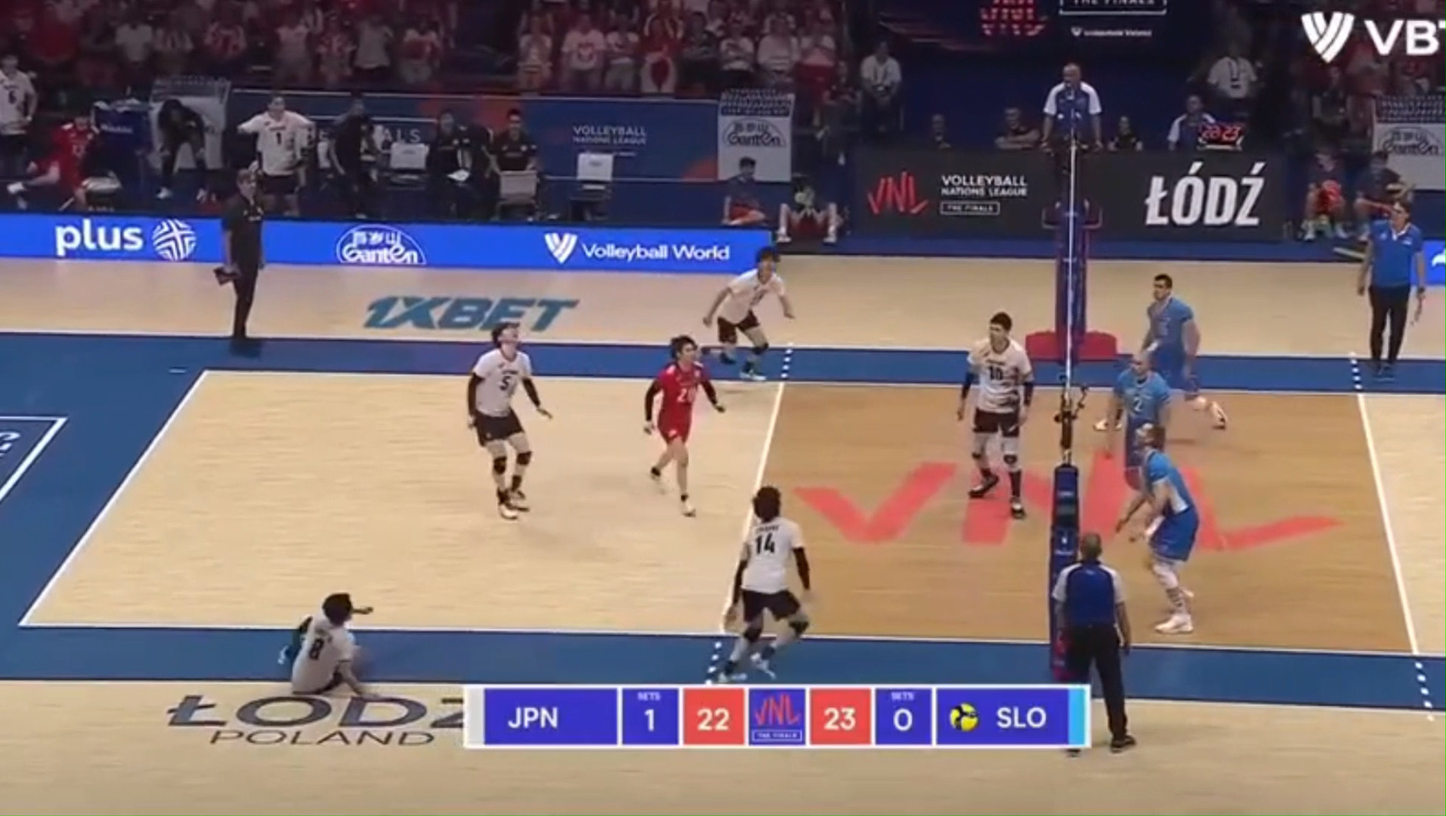player: (1120, 448, 1200, 633), (1142, 274, 1228, 428), (1111, 352, 1173, 485)
player 1: (714, 485, 811, 682), (467, 323, 551, 519), (957, 312, 1034, 518), (644, 335, 725, 515), (703, 246, 793, 380), (286, 592, 370, 694)
referee: (1051, 533, 1135, 752), (1358, 205, 1424, 372), (1041, 62, 1102, 230), (215, 169, 265, 350)
